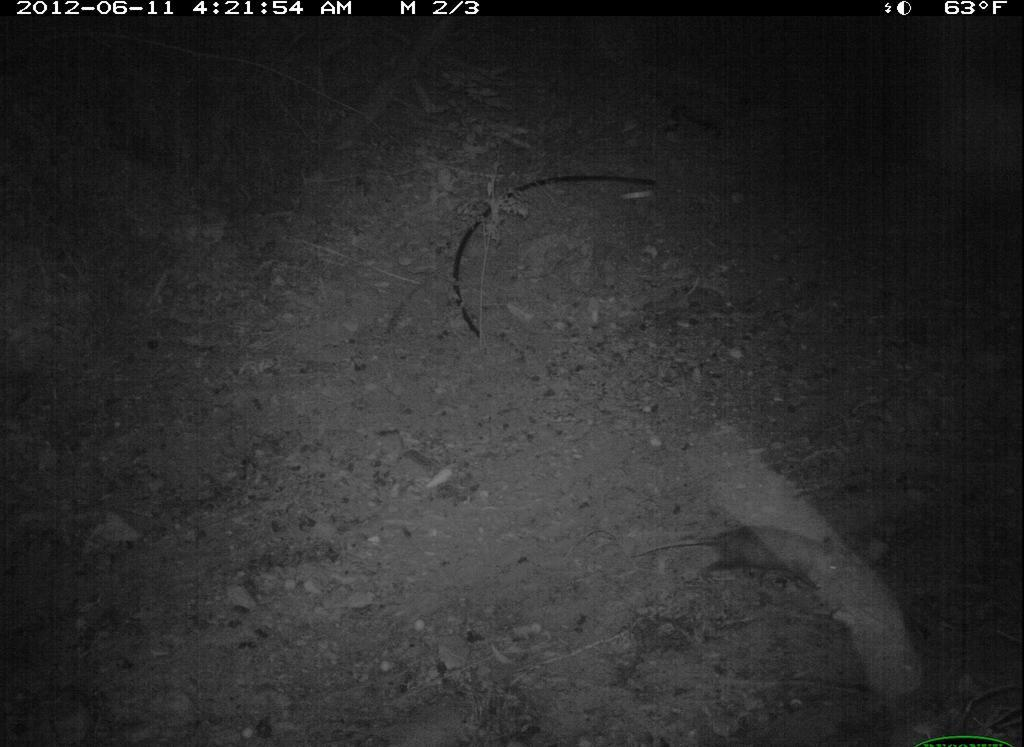opossum: (623, 521, 854, 603)
